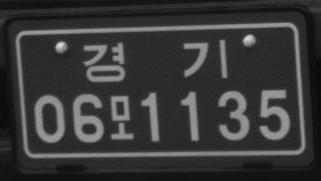0: (32, 93, 67, 145)
1: (139, 90, 167, 143), (177, 90, 205, 143)
3: (216, 89, 250, 141)
5: (257, 88, 291, 141)
6: (72, 92, 105, 144)
경기_D: (82, 38, 230, 84)
모: (108, 95, 135, 140)
